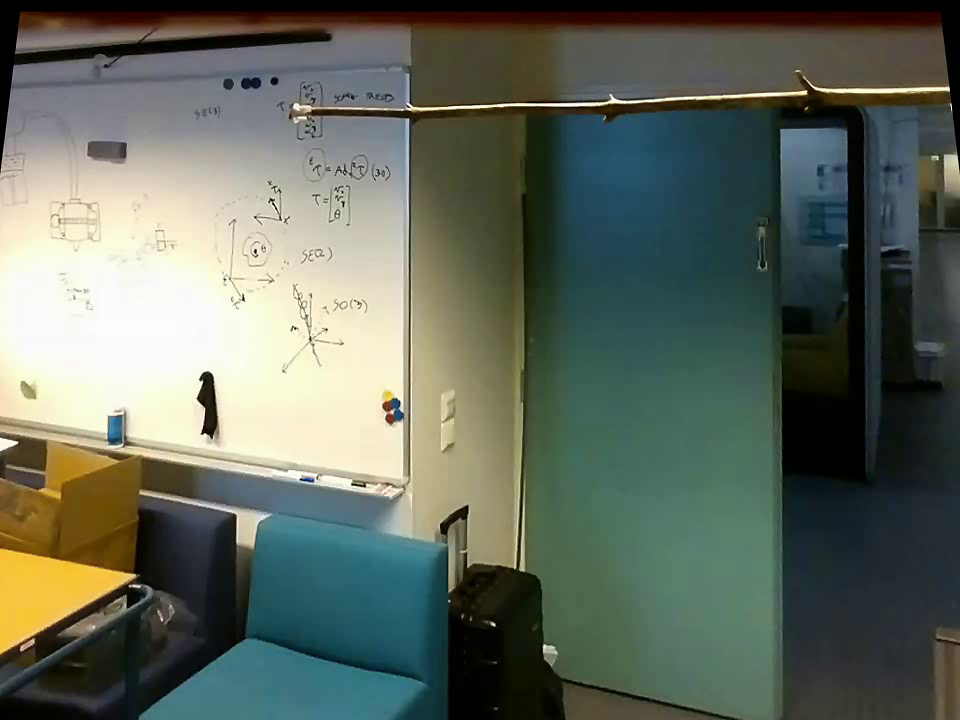aluminum_frame: (2, 411, 409, 503), (6, 56, 415, 95), (390, 57, 417, 490)
branch: (314, 63, 947, 144), (318, 63, 944, 130)
